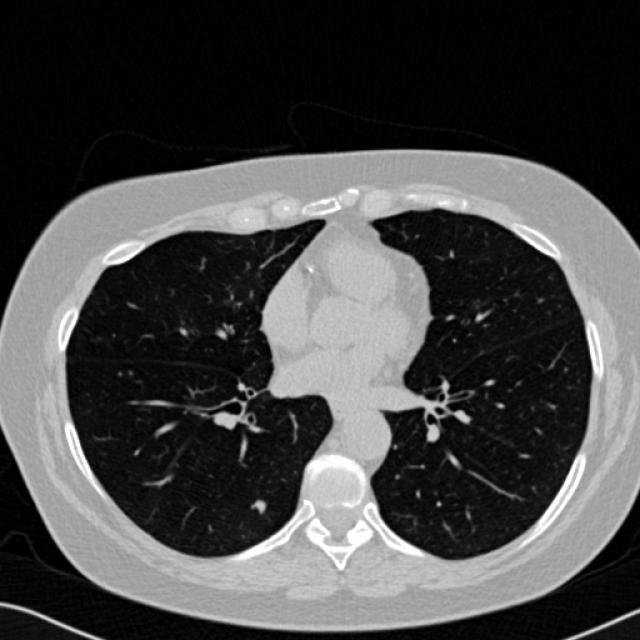nodule: (245, 491, 273, 519)
